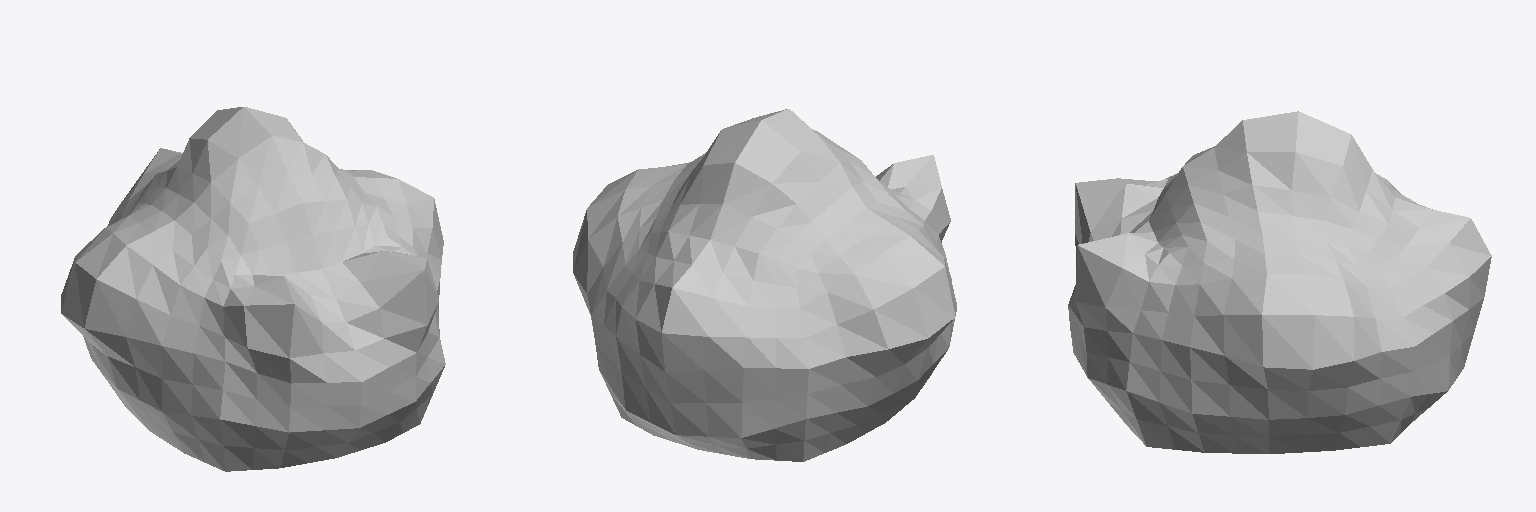
Rendered from Tortoise.obj.
3 renders of one model, left to right at view 1: azimuth 30°, elevation 25°; view 2: azimuth 150°, elevation 25°; view 3: azimuth 270°, elevation 25°, orthographic.
Visible parts, largest first — view 1: Cube_Cube.003; view 2: Cube_Cube.003; view 3: Cube_Cube.003.
Boxes of the visible parts, <box> form: Cube_Cube.003: <box>61,107,445,471</box>; Cube_Cube.003: <box>573,109,956,461</box>; Cube_Cube.003: <box>1068,111,1491,453</box>.
Size of the model in its own units: 1.4 by 1.07 by 1.43.